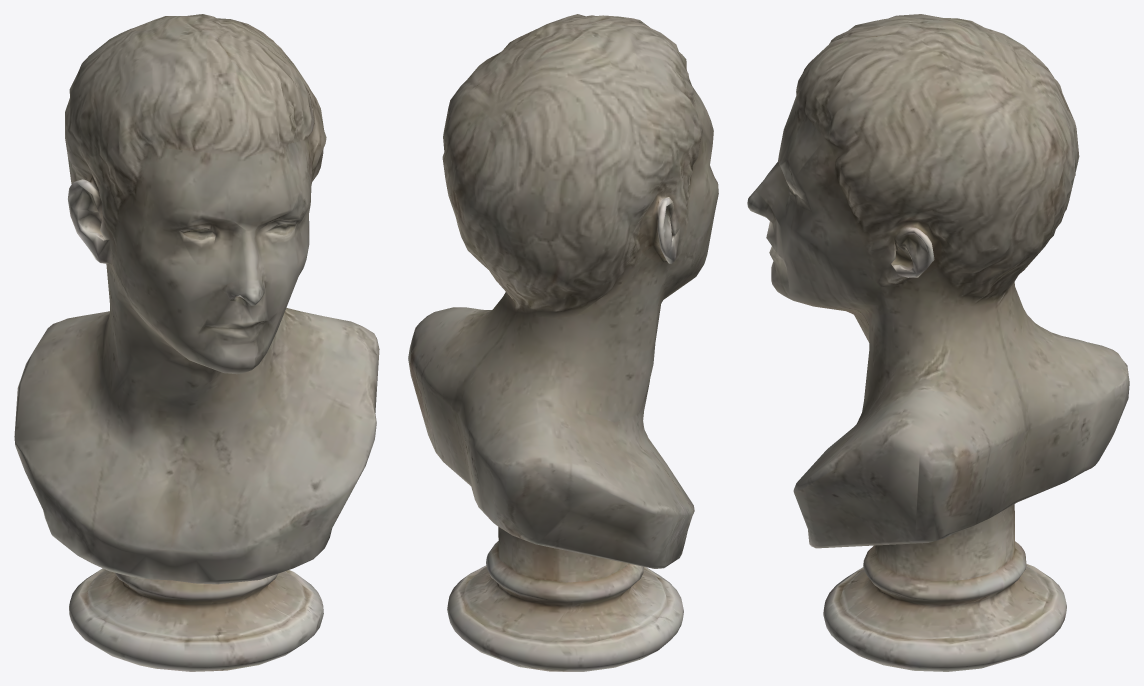
File: marble_bust_01.glb
3 renders of one model, left to right at view 1: azimuth 30°, elevation 25°; view 2: azimuth 150°, elevation 25°; view 3: azimuth 270°, elevation 25°, orthographic. The views are drawn at different scales.
Parts seen in each view (by area): view 1: marble_bust_01; view 2: marble_bust_01; view 3: marble_bust_01.
Boxes of the visible parts, left/top/right/bottom form: marble_bust_01: left=14, top=14, right=379, bottom=671; marble_bust_01: left=408, top=14, right=718, bottom=671; marble_bust_01: left=747, top=14, right=1129, bottom=671.
Bounding box in the file's own units: 0.2717 × 0.5148 × 0.2997.
Materials: 1 (1 with a texture image).
